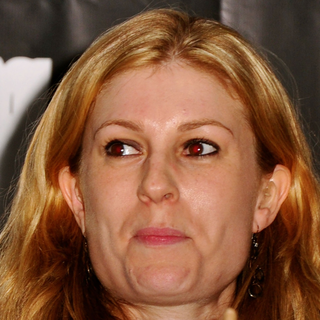eye: (177, 135, 223, 163), (102, 136, 145, 163)
